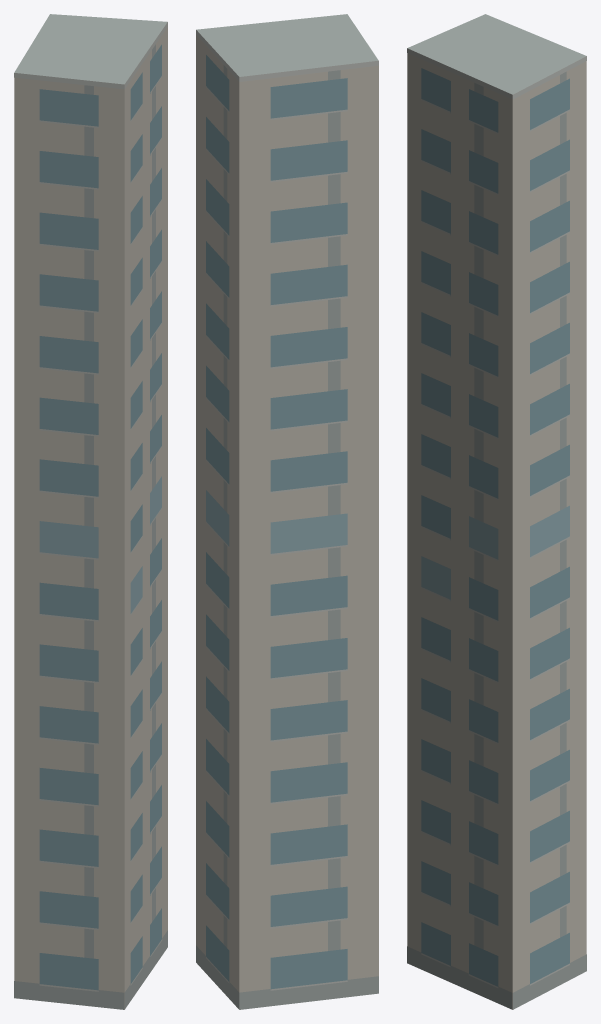
Rendered from survey-upis-32898435.glb.
The picture shows the model from 3 angles, left to right: view 1: azimuth 30°, elevation 25°; view 2: azimuth 150°, elevation 25°; view 3: azimuth 270°, elevation 25°; orthographic projection.
Visible parts, largest first — view 1: survey-upis-32898435.tmp; view 2: survey-upis-32898435.tmp; view 3: survey-upis-32898435.tmp.
Boxes of the visible parts, x1,y1,x2,y2 form: survey-upis-32898435.tmp: [14, 14, 167, 1009]; survey-upis-32898435.tmp: [196, 14, 378, 1009]; survey-upis-32898435.tmp: [407, 14, 586, 1009].
Bounding box in the file's own units: 8.67 × 45.75 × 8.15.
